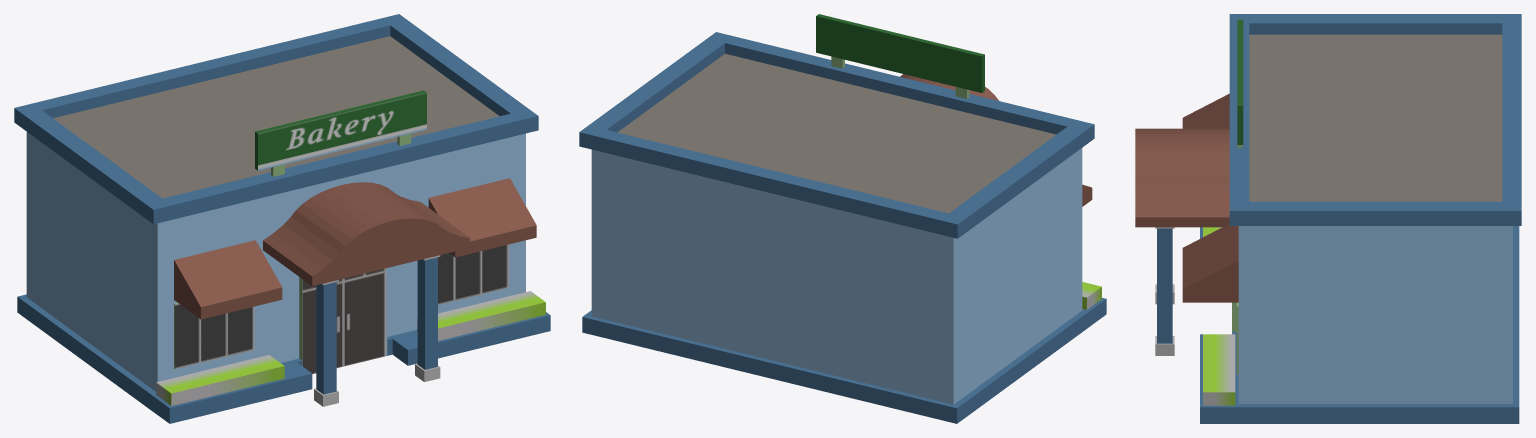
File: Building_Bakery.fbx
3 renders of one model, left to right at view 1: azimuth 30°, elevation 25°; view 2: azimuth 150°, elevation 25°; view 3: azimuth 270°, elevation 25°, orthographic. The views are drawn at different scales.
Parts seen in each view (by area): view 1: Building_Bakery1; view 2: Building_Bakery1; view 3: Building_Bakery1.
Part boxes in pixels (x1,y1,x2,y2): Building_Bakery1: (14, 14, 550, 423); Building_Bakery1: (579, 14, 1106, 423); Building_Bakery1: (1135, 14, 1521, 423).
Bounding box in the file's own units: 1359 × 848 × 1128.
